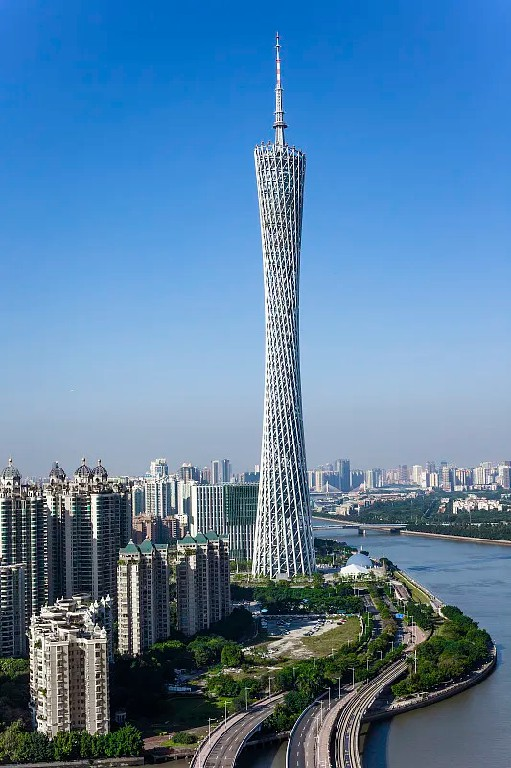Canton: (249, 29, 317, 582)
